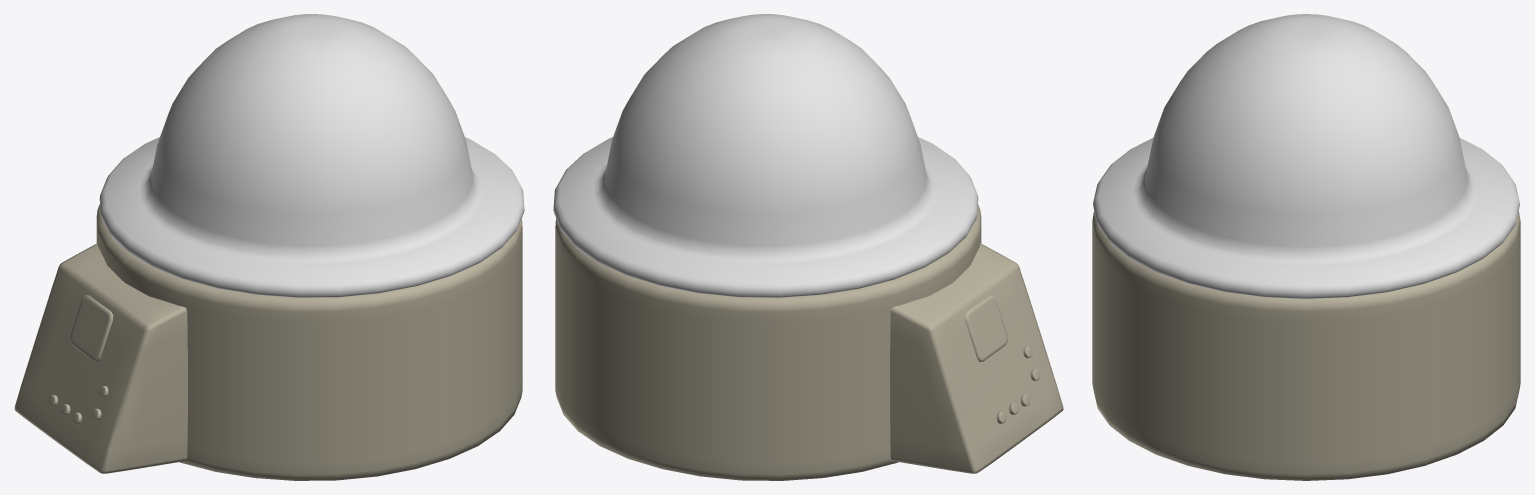
Rendered from centrifugal.fbx.
3 views of the same model, side by side, from view 1: azimuth 30°, elevation 25°; view 2: azimuth 150°, elevation 25°; view 3: azimuth 270°, elevation 25° (orthographic).
Visible parts, largest first — view 1: Centrifuge.Shape, Centrifuge.Shape.001; view 2: Centrifuge.Shape, Centrifuge.Shape.001; view 3: Centrifuge.Shape.001, Centrifuge.Shape.
Part boxes in pixels (left/top/right/bottom): Centrifuge.Shape: left=14, top=204, right=522, bottom=480; Centrifuge.Shape.001: left=99, top=14, right=524, bottom=297; Centrifuge.Shape: left=555, top=204, right=1063, bottom=480; Centrifuge.Shape.001: left=553, top=14, right=978, bottom=297; Centrifuge.Shape.001: left=1093, top=14, right=1519, bottom=298; Centrifuge.Shape: left=1092, top=211, right=1520, bottom=480.
Bounding box in the file's own units: 30.56 × 24.39 × 25.71.
